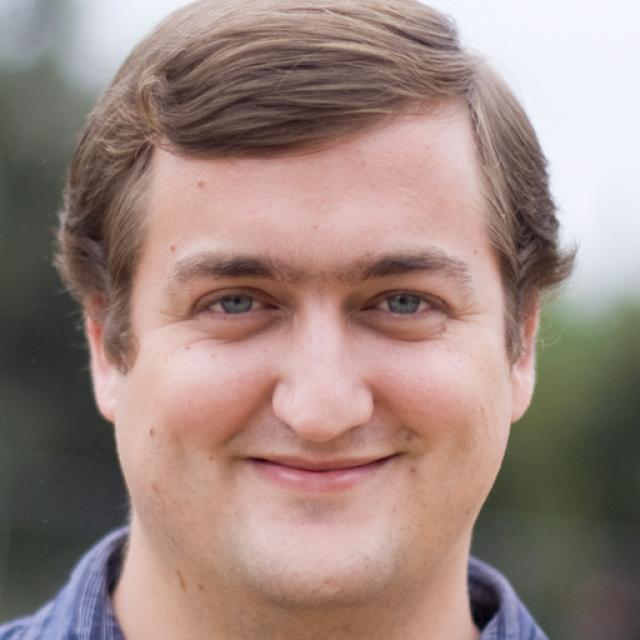happy: (122, 101, 512, 604)
